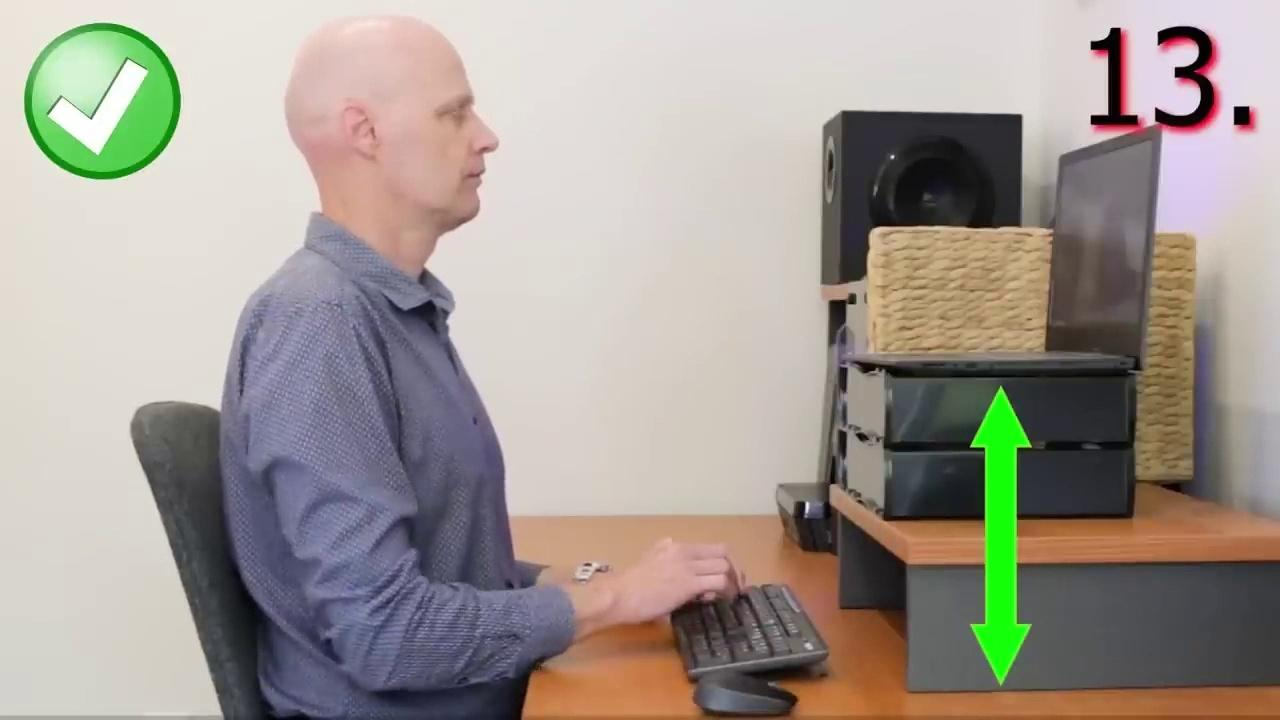GoodPosture: (221, 16, 739, 719)
